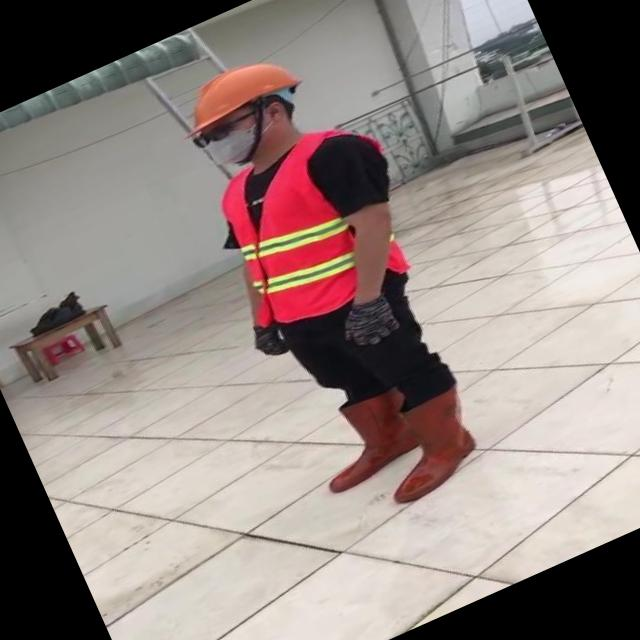hard_hat: (166, 40, 310, 140)
safety_vest: (195, 110, 437, 344)
vehicle: (132, 20, 523, 545)
work_boots: (359, 383, 501, 511), (298, 383, 426, 498)
